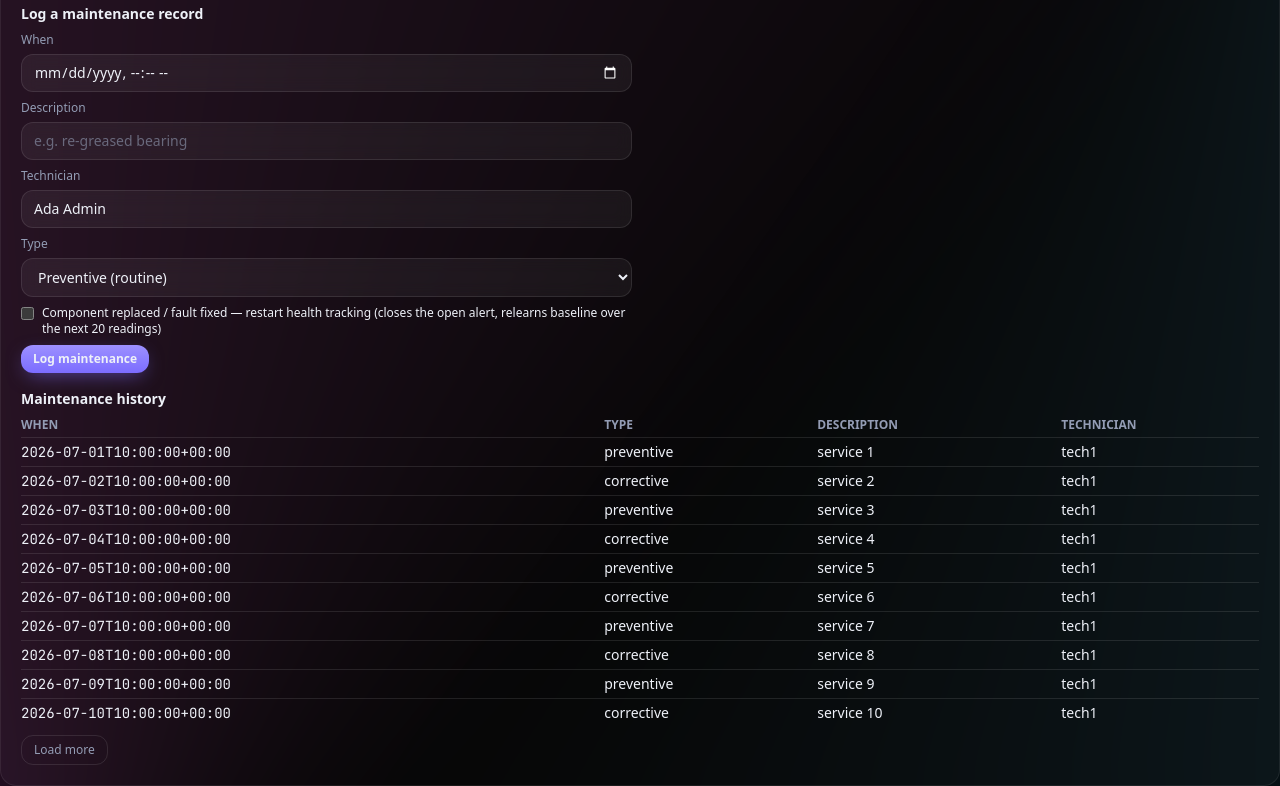
Test: MachineDetail › appends more history rows and hides the button once a short page comes back
(page scrolled)
What coordinates should you click on to do the following:
click the button "Load more"
I would click on:
 (64, 750)
Its box is [21,735,108,765].
(page scrolled)
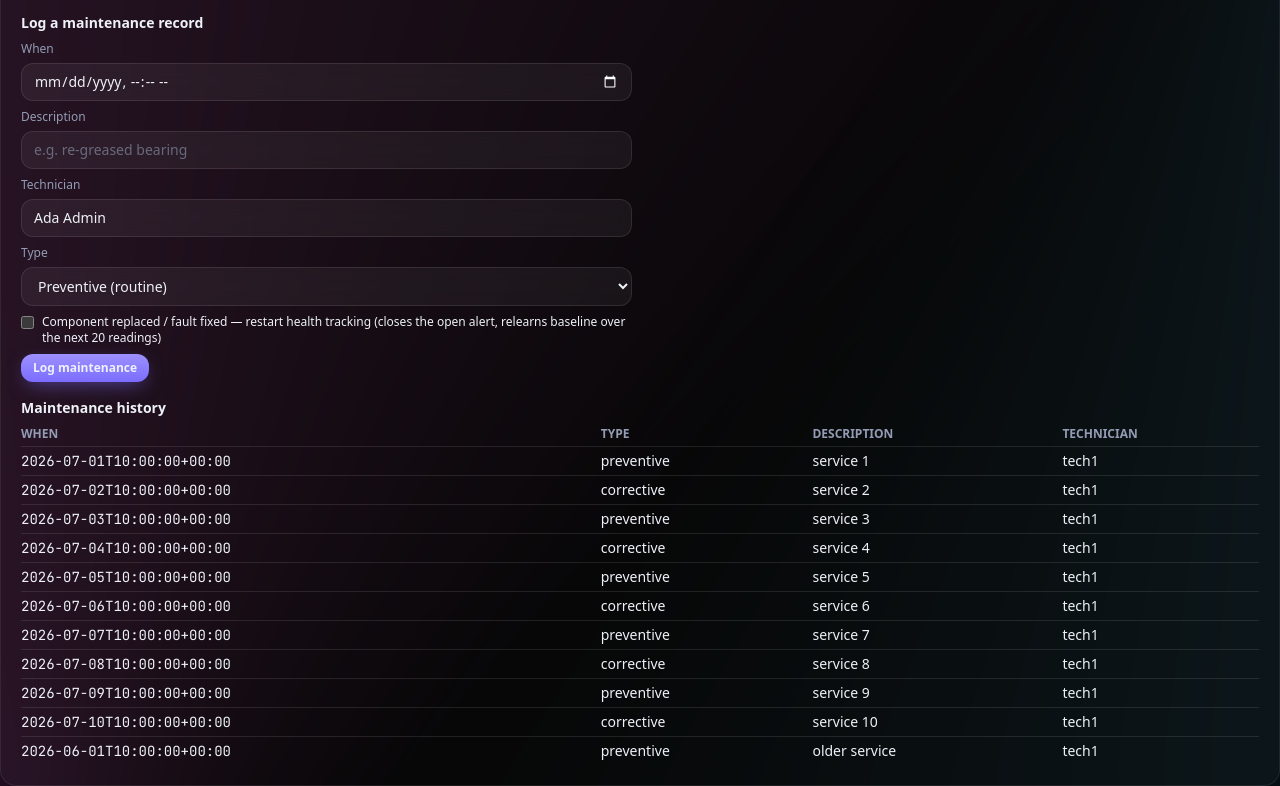
Now the button "Load more" is gone
